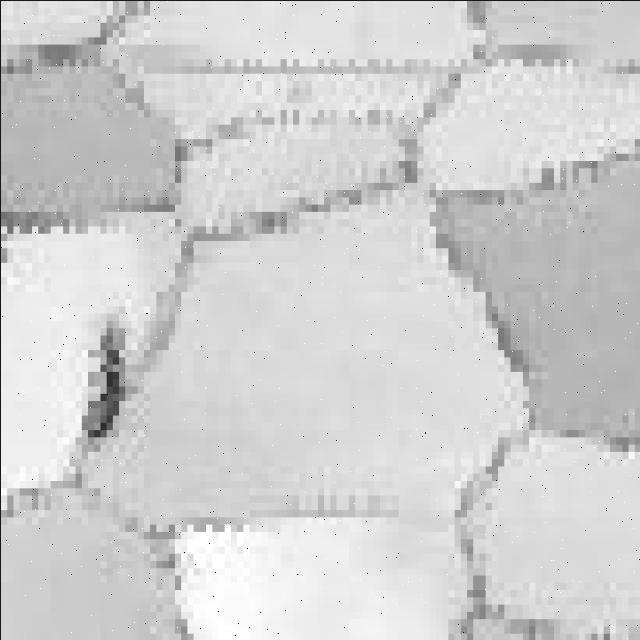good_void: (70, 313, 131, 451)
